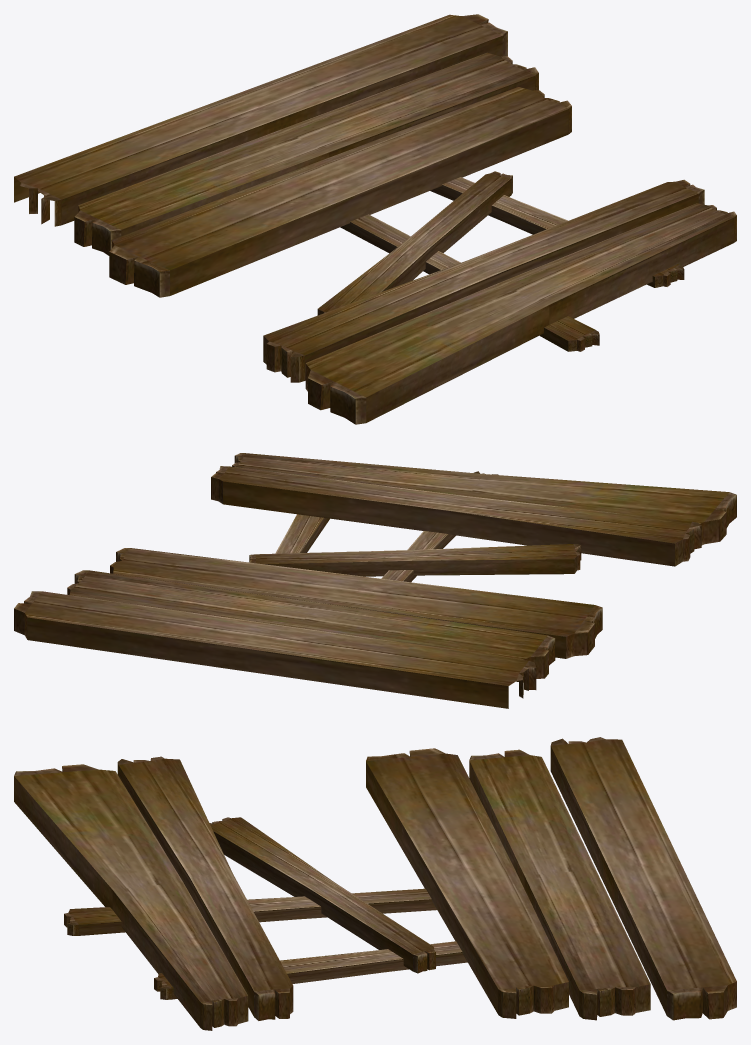
Rendered from SC001Jwujian_46.FBX.
3 renders of one model, top to bottom at view 1: azimuth 30°, elevation 25°; view 2: azimuth 150°, elevation 25°; view 3: azimuth 270°, elevation 25°, orthographic. The views are drawn at different scales.
Parts seen in each view (by area): view 1: SC001Jwujian_46; view 2: SC001Jwujian_46; view 3: SC001Jwujian_46.
Part boxes in pixels (x1,y1,x2,y2): SC001Jwujian_46: (14,14,736,424); SC001Jwujian_46: (14,453,736,708); SC001Jwujian_46: (14,737,736,1030).
Size of the model in its own units: 3.9 by 0.3075 by 4.63.
